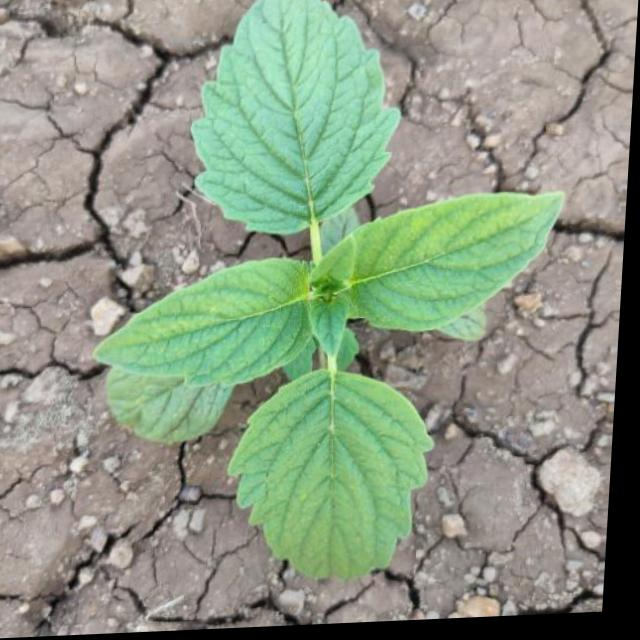crop: (88, 0, 582, 587)
